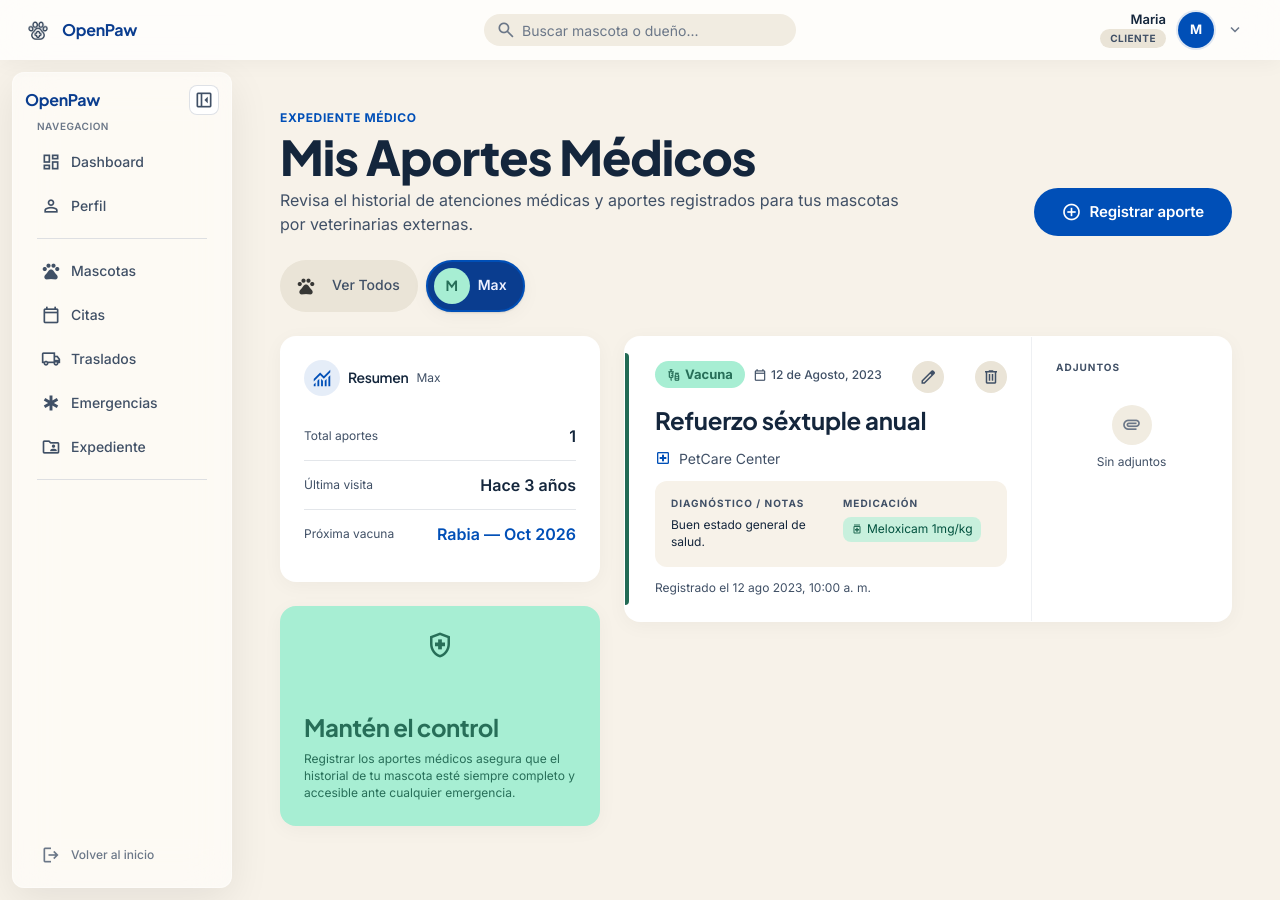
Test: AportesPage - rediseño Sprint 2 (T36) › editar: dueño ve el botón ✎, el PUT va a /{id} con SOLO los campos cambiados y refresca
Click the button named "Editar aporte de PetCare Center".
click(928, 377)  # box [912,361,944,393]
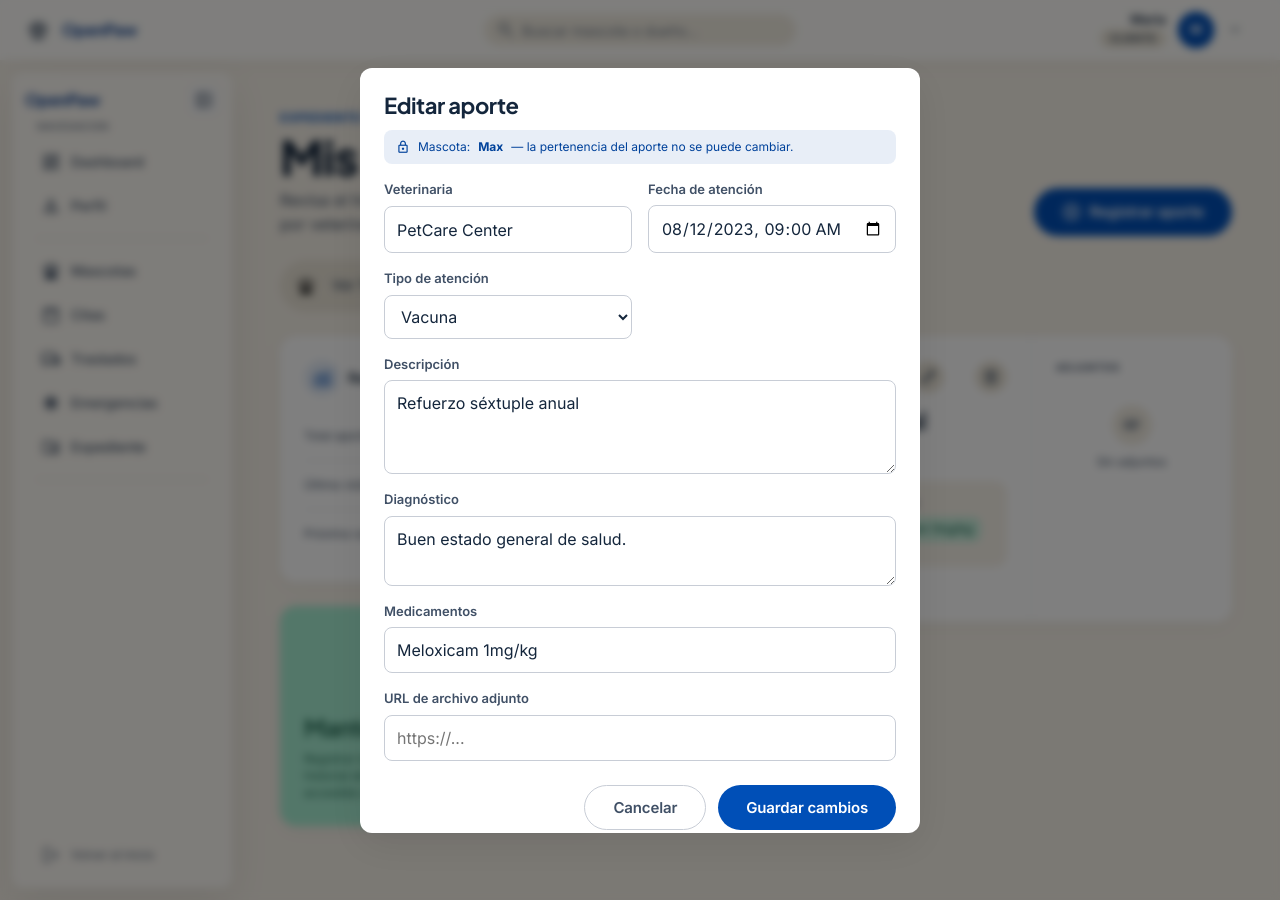
Now the heading "Editar aporte" is shown, box [384,90,518,118]
Now the field labelled "Veterinaria" holds "PetCare Center", box [384,206,632,253]
Now the text box labelled "Descripción" holds "Refuerzo séxtuple anual"
Replace the text in the text box labelled "Descripción" with "Descripción corregida" at (640, 427), box [384,380,896,474]
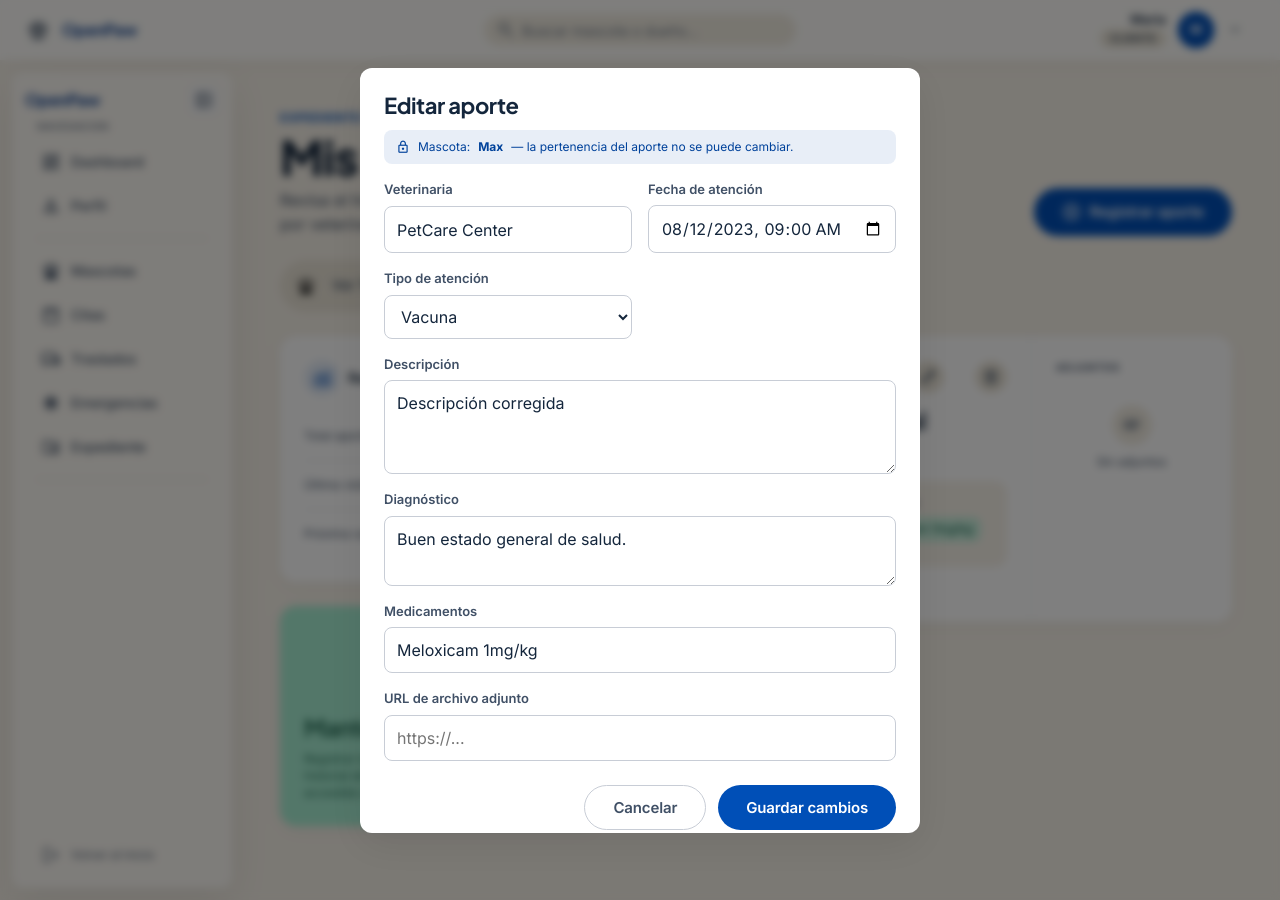
Click the button "Guardar cambios".
click(807, 807)  # box [718,785,896,830]
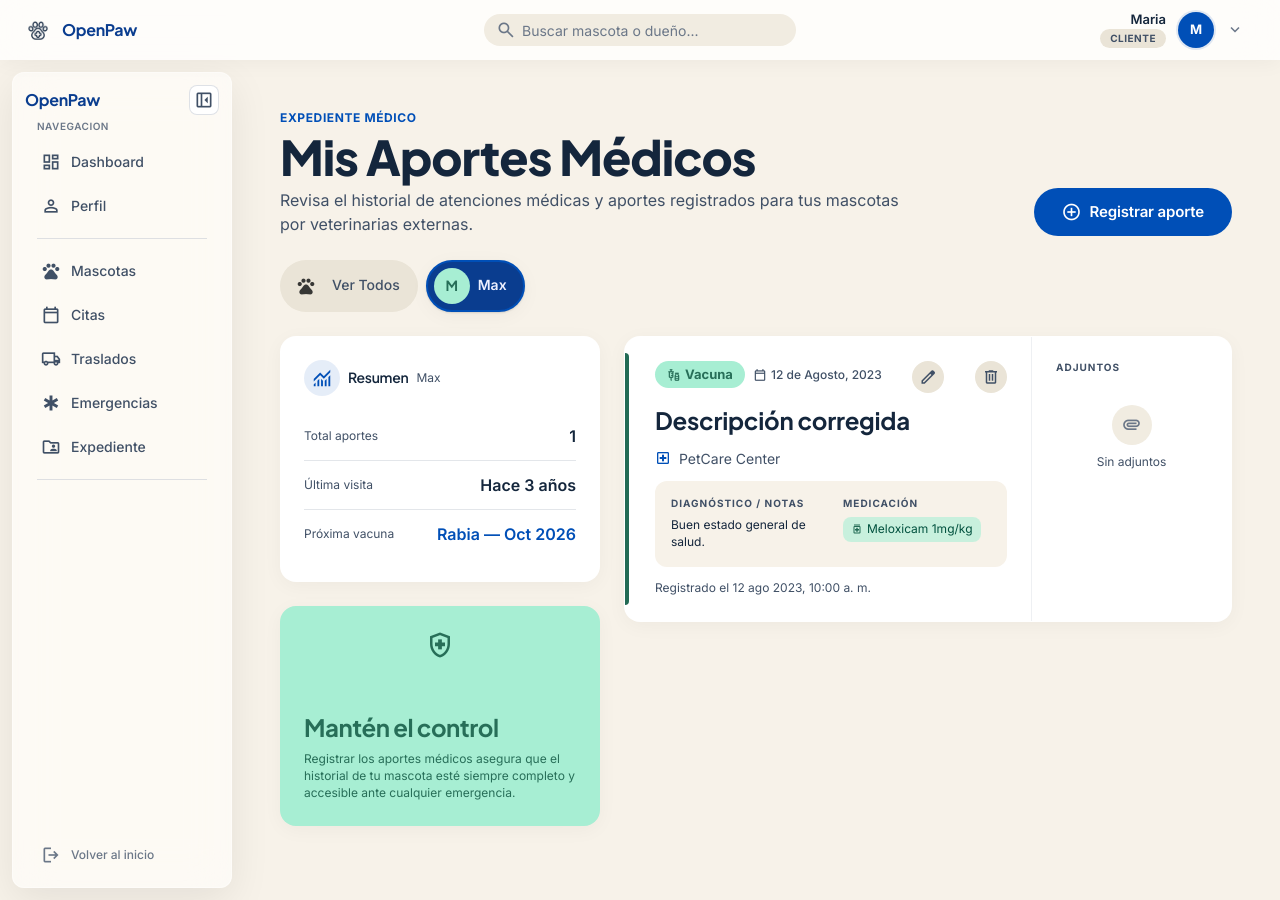
Now the heading "Descripción corregida" is shown, box [655,405,910,435]
Now the heading "Editar aporte" is gone
